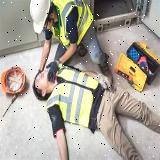Vest: (47, 66, 100, 132), (48, 0, 94, 52)
